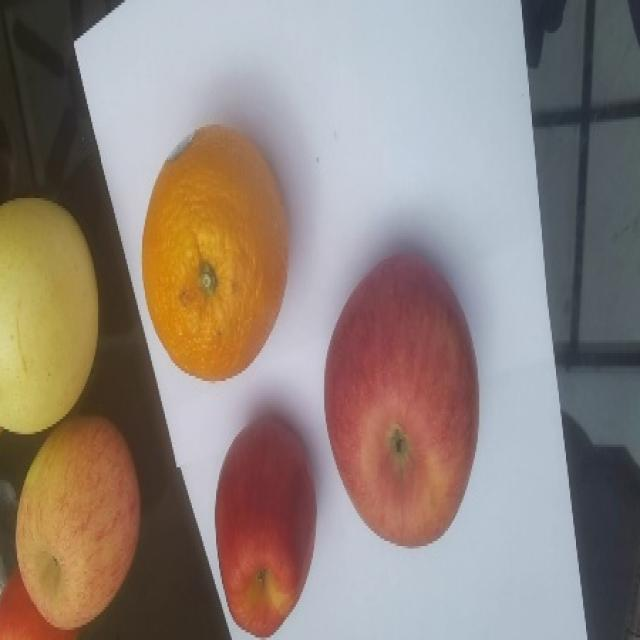Apple: (323, 252, 479, 547), (14, 413, 141, 630), (214, 414, 317, 637)
Orange: (140, 123, 289, 381)
